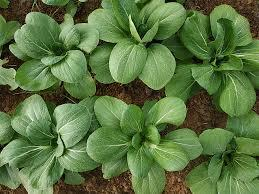Healthy-Pechay: (15, 1, 259, 98), (2, 104, 259, 191), (54, 102, 95, 150), (14, 58, 59, 93), (16, 159, 58, 193), (89, 43, 118, 85), (1, 162, 23, 190), (26, 38, 55, 57), (107, 106, 124, 124)
